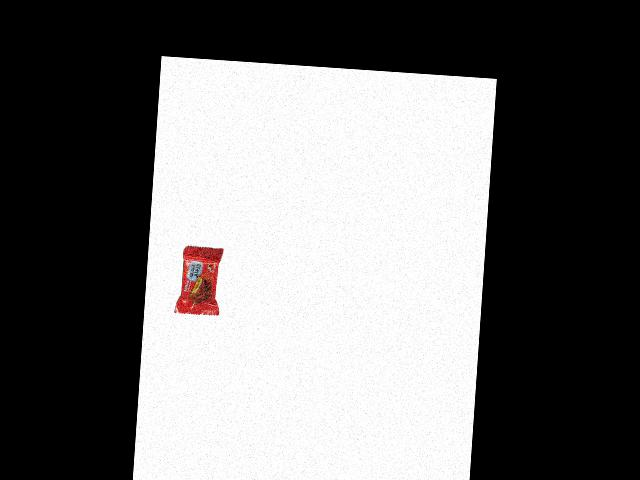chocolate: (169, 238, 223, 316)
